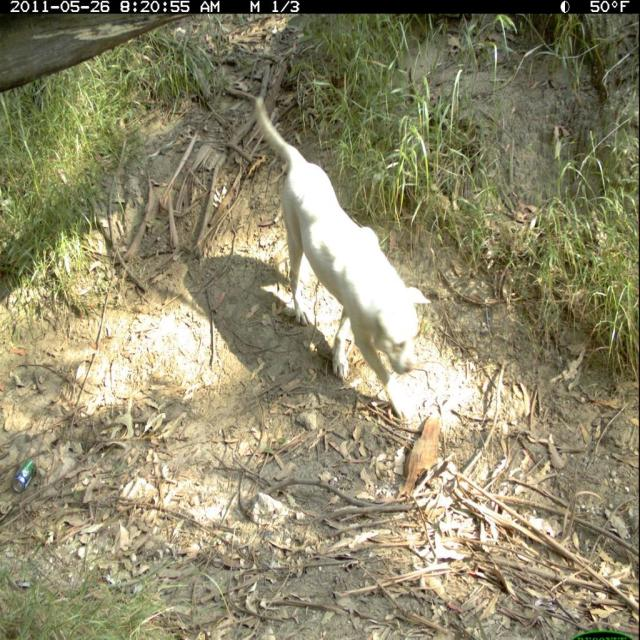dog: (253, 93, 435, 425)
